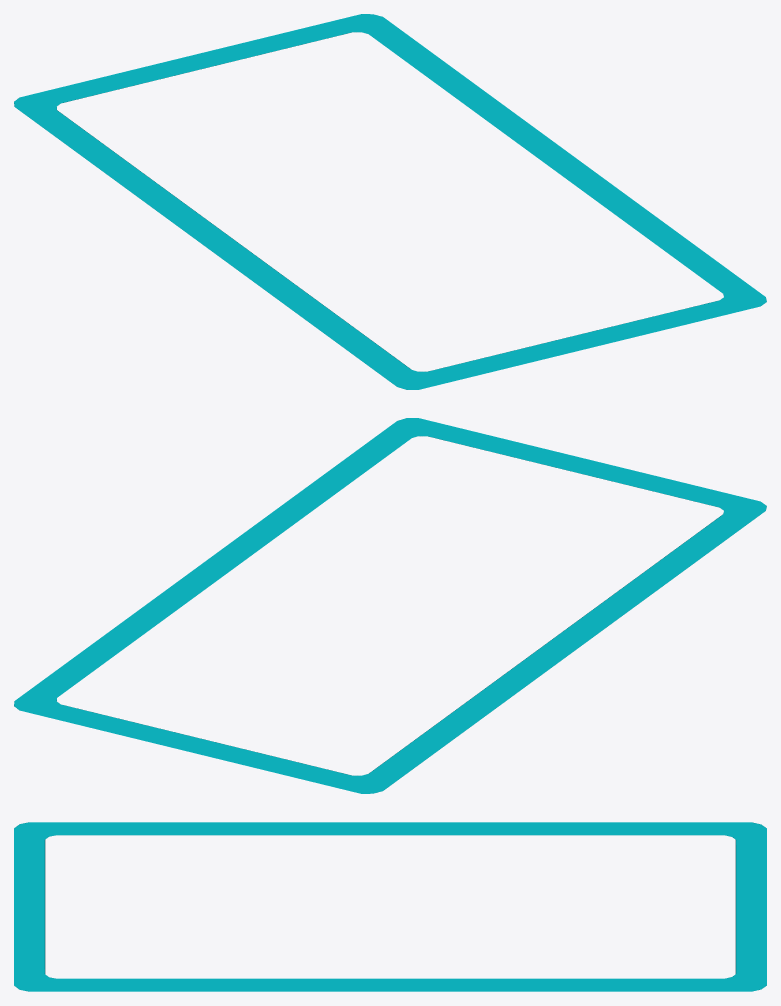
Rendered from G_maker_L.fbx.
3 renders of one model, top to bottom at view 1: azimuth 30°, elevation 25°; view 2: azimuth 150°, elevation 25°; view 3: azimuth 270°, elevation 25°, orthographic. The views are drawn at different scales.
Parts seen in each view (by area): view 1: G_maker_L; view 2: G_maker_L; view 3: G_maker_L.
Part boxes in pixels (bbox=[...]): G_maker_L: bbox=[14, 14, 766, 389]; G_maker_L: bbox=[14, 418, 766, 793]; G_maker_L: bbox=[14, 822, 766, 991].
Bounding box in the file's own units: 8 × 2.44e-06 × 15.
Materials: 1 (1 with a texture image).
